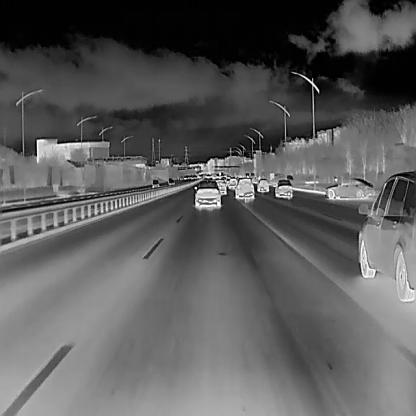car: (356, 170, 416, 301), (325, 177, 374, 199), (193, 180, 221, 209), (234, 176, 255, 199), (274, 178, 293, 199), (214, 178, 227, 194), (256, 177, 269, 193), (226, 176, 238, 190), (151, 178, 159, 187), (168, 177, 175, 186), (178, 174, 183, 180)
